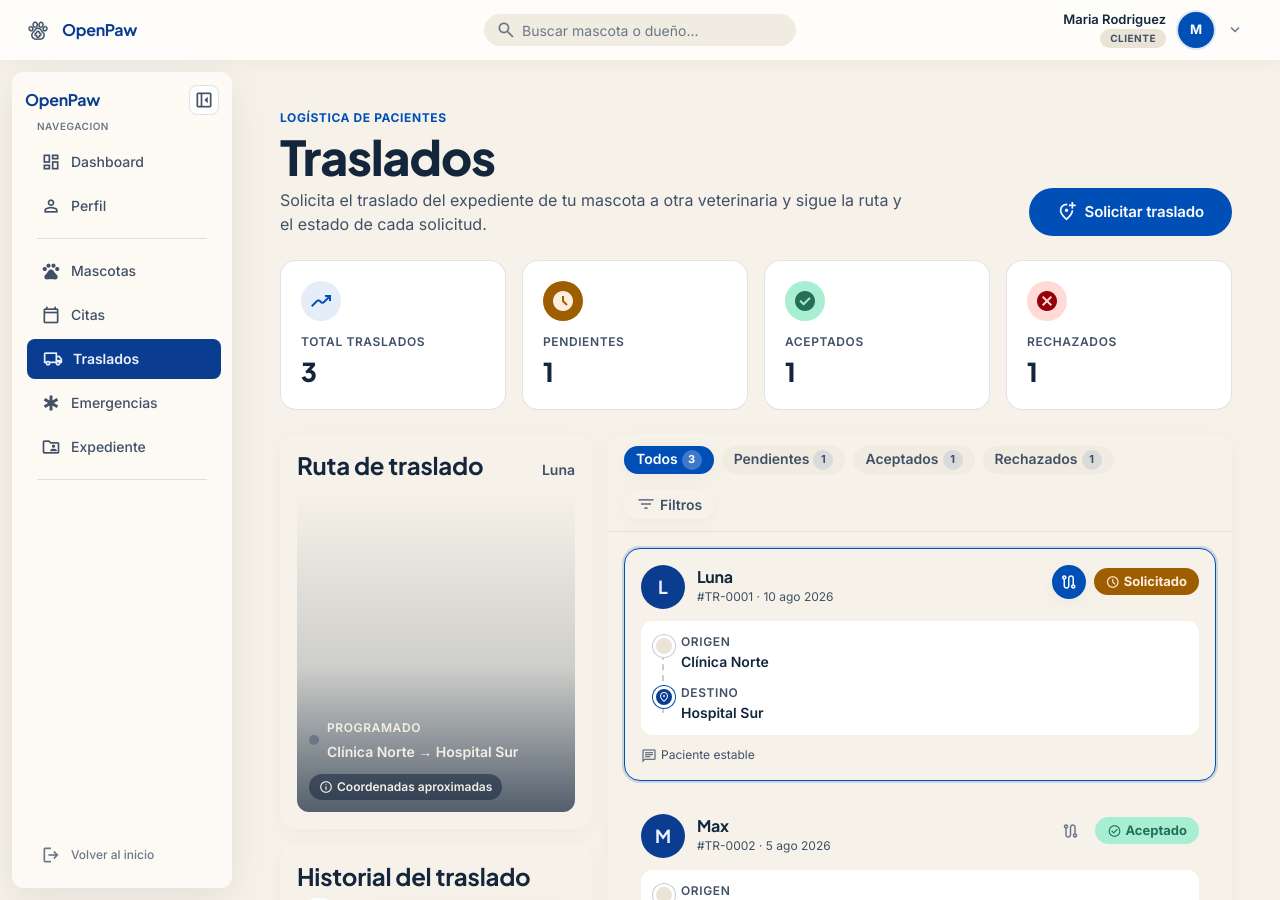
Test: TrasladosPage - rediseño (T35): quick stats, cards, timeline y mapa › chips de filtro (con conteo) filtran las cards
expect the text "Luna" is shown: met, box [542, 459, 575, 480]
Click the button "Aceptados 1" at (914,460), box [853, 446, 975, 474]
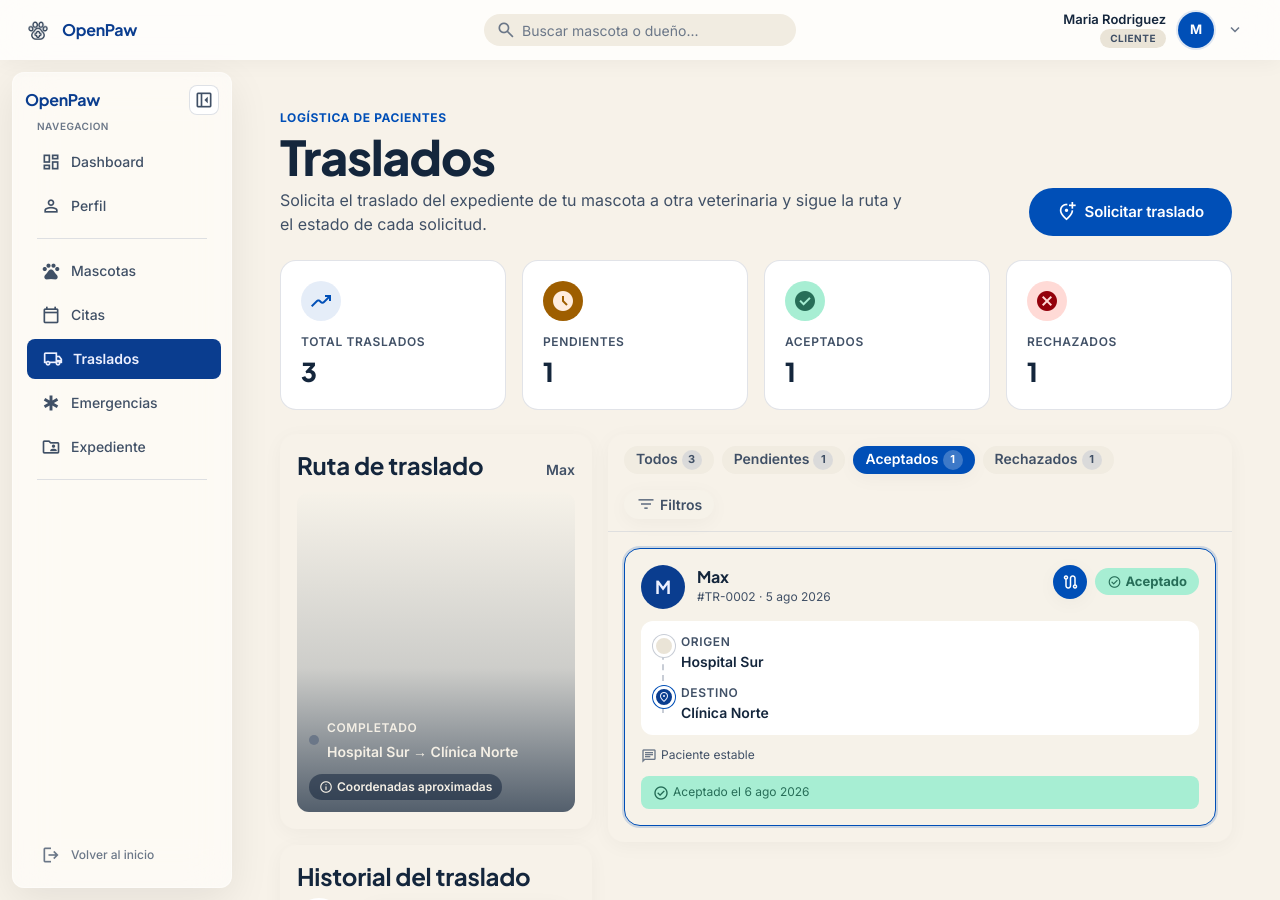
expect the text "Max" is shown: met, box [546, 459, 575, 480]
expect the text "Luna" is gone: met
Click the button "Rechazados 1" at (1048,460), box [983, 446, 1114, 474]
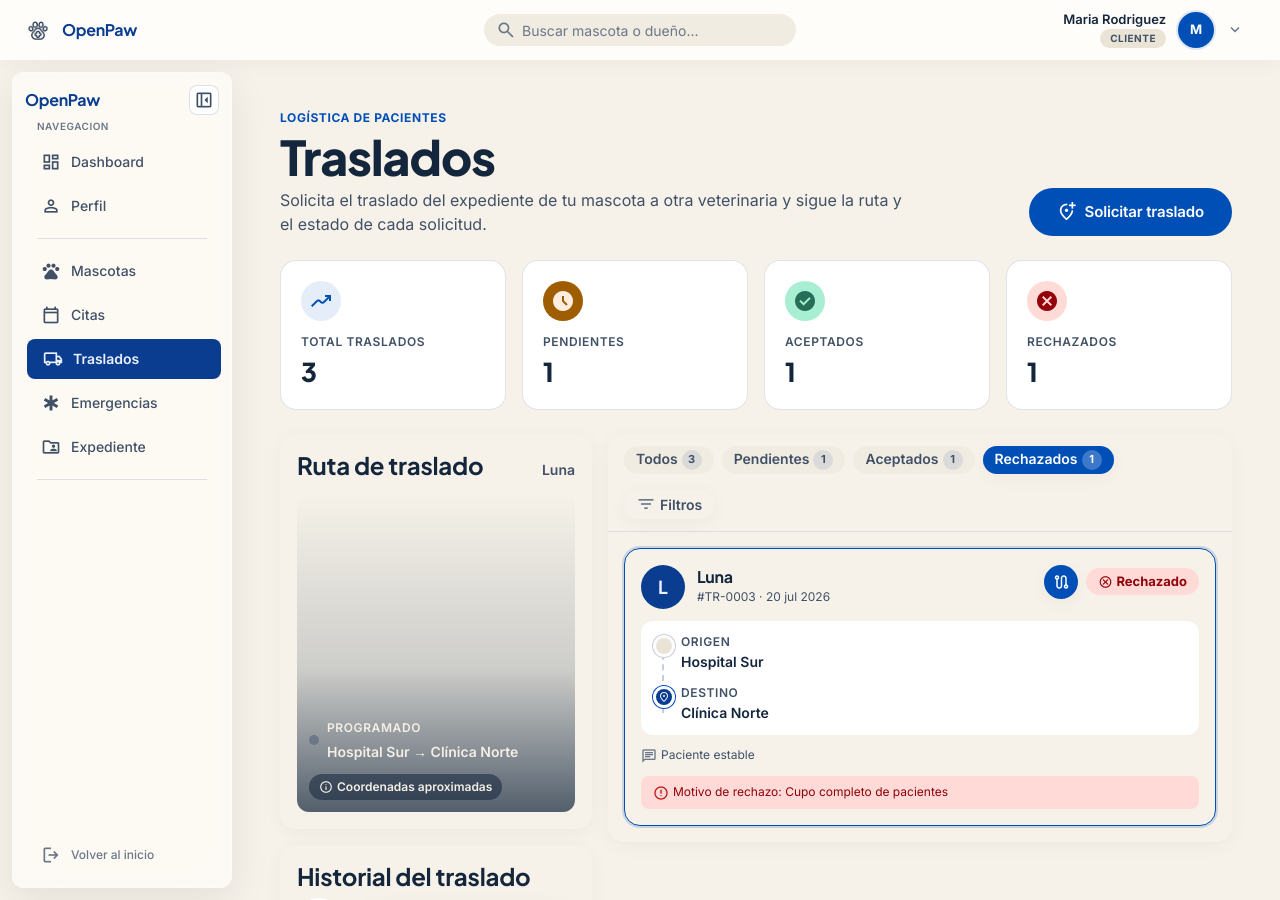
expect the text "Max" is gone: met
Click the button "Todos 3" at (669,460), box [624, 446, 714, 474]
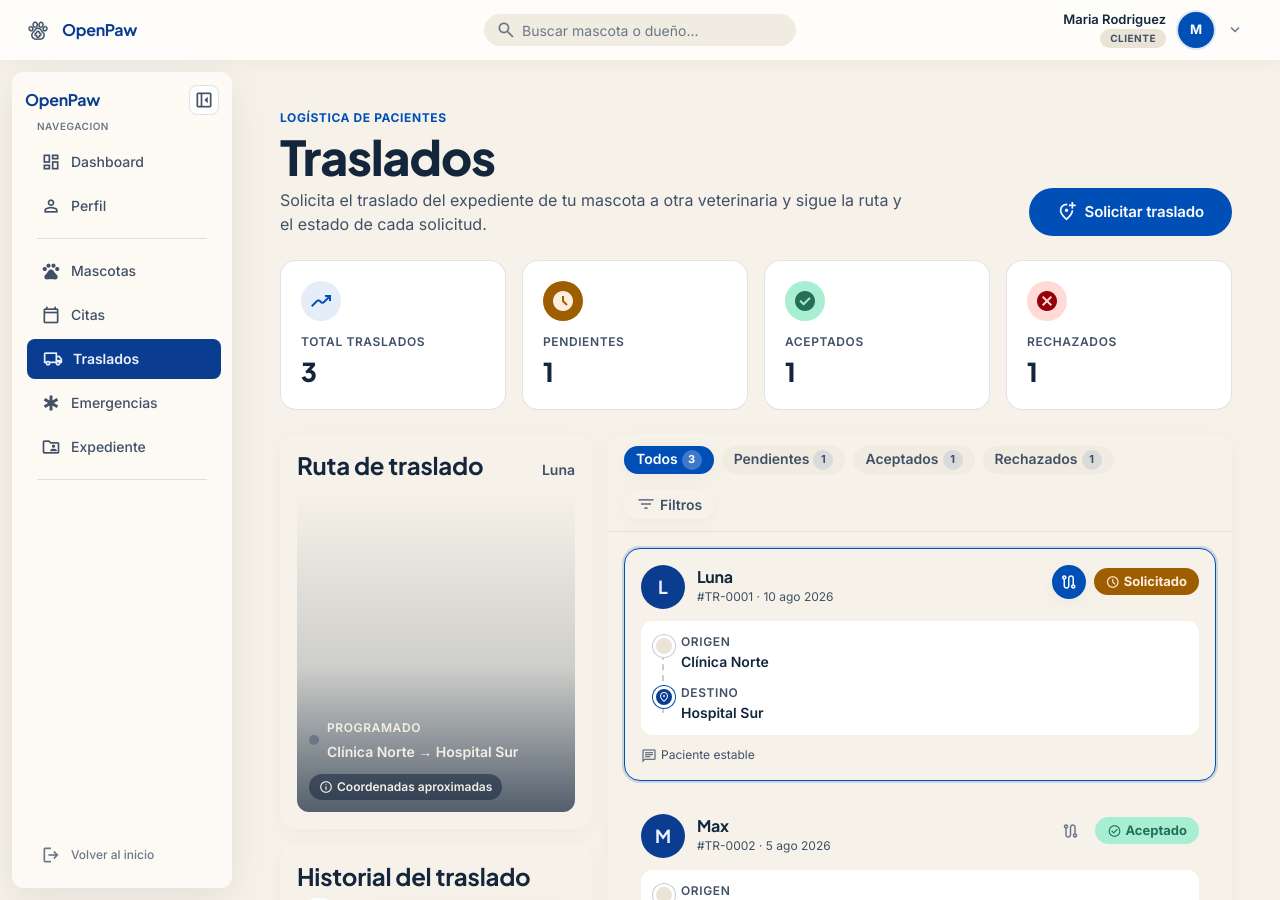
expect the text "Luna" is shown: met, box [542, 459, 575, 480]
expect the heading "Max" is shown: met, box [697, 815, 728, 836]
